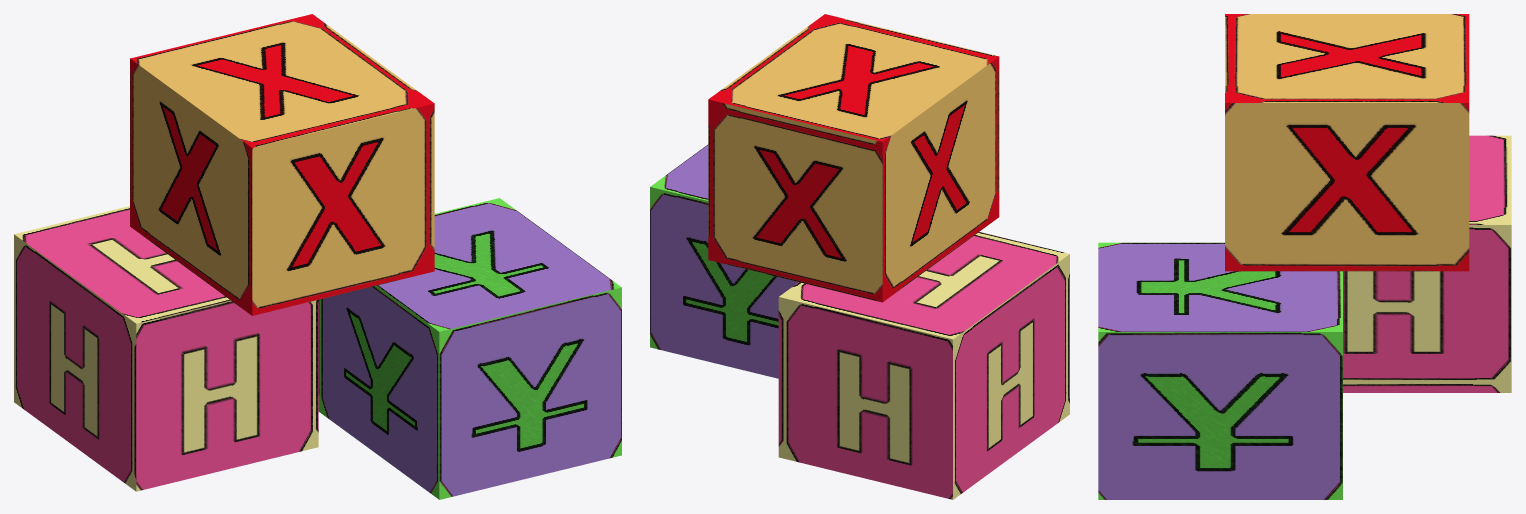
Rendered from 3Cubes.glb.
3 renders of one model, left to right at view 1: azimuth 30°, elevation 25°; view 2: azimuth 150°, elevation 25°; view 3: azimuth 270°, elevation 25°, orthographic. The views are drawn at different scales.
Parts seen in each view (by area): view 1: 3Cubes; view 2: 3Cubes; view 3: 3Cubes.
Part boxes in pixels (x1=…): 3Cubes: x1=14, y1=14, x2=621, y2=499; 3Cubes: x1=650, y1=14, x2=1069, y2=499; 3Cubes: x1=1098, y1=14, x2=1511, y2=499.
Size of the model in its own units: 55 by 44 by 49.
Materials: 3 (3 with a texture image).
